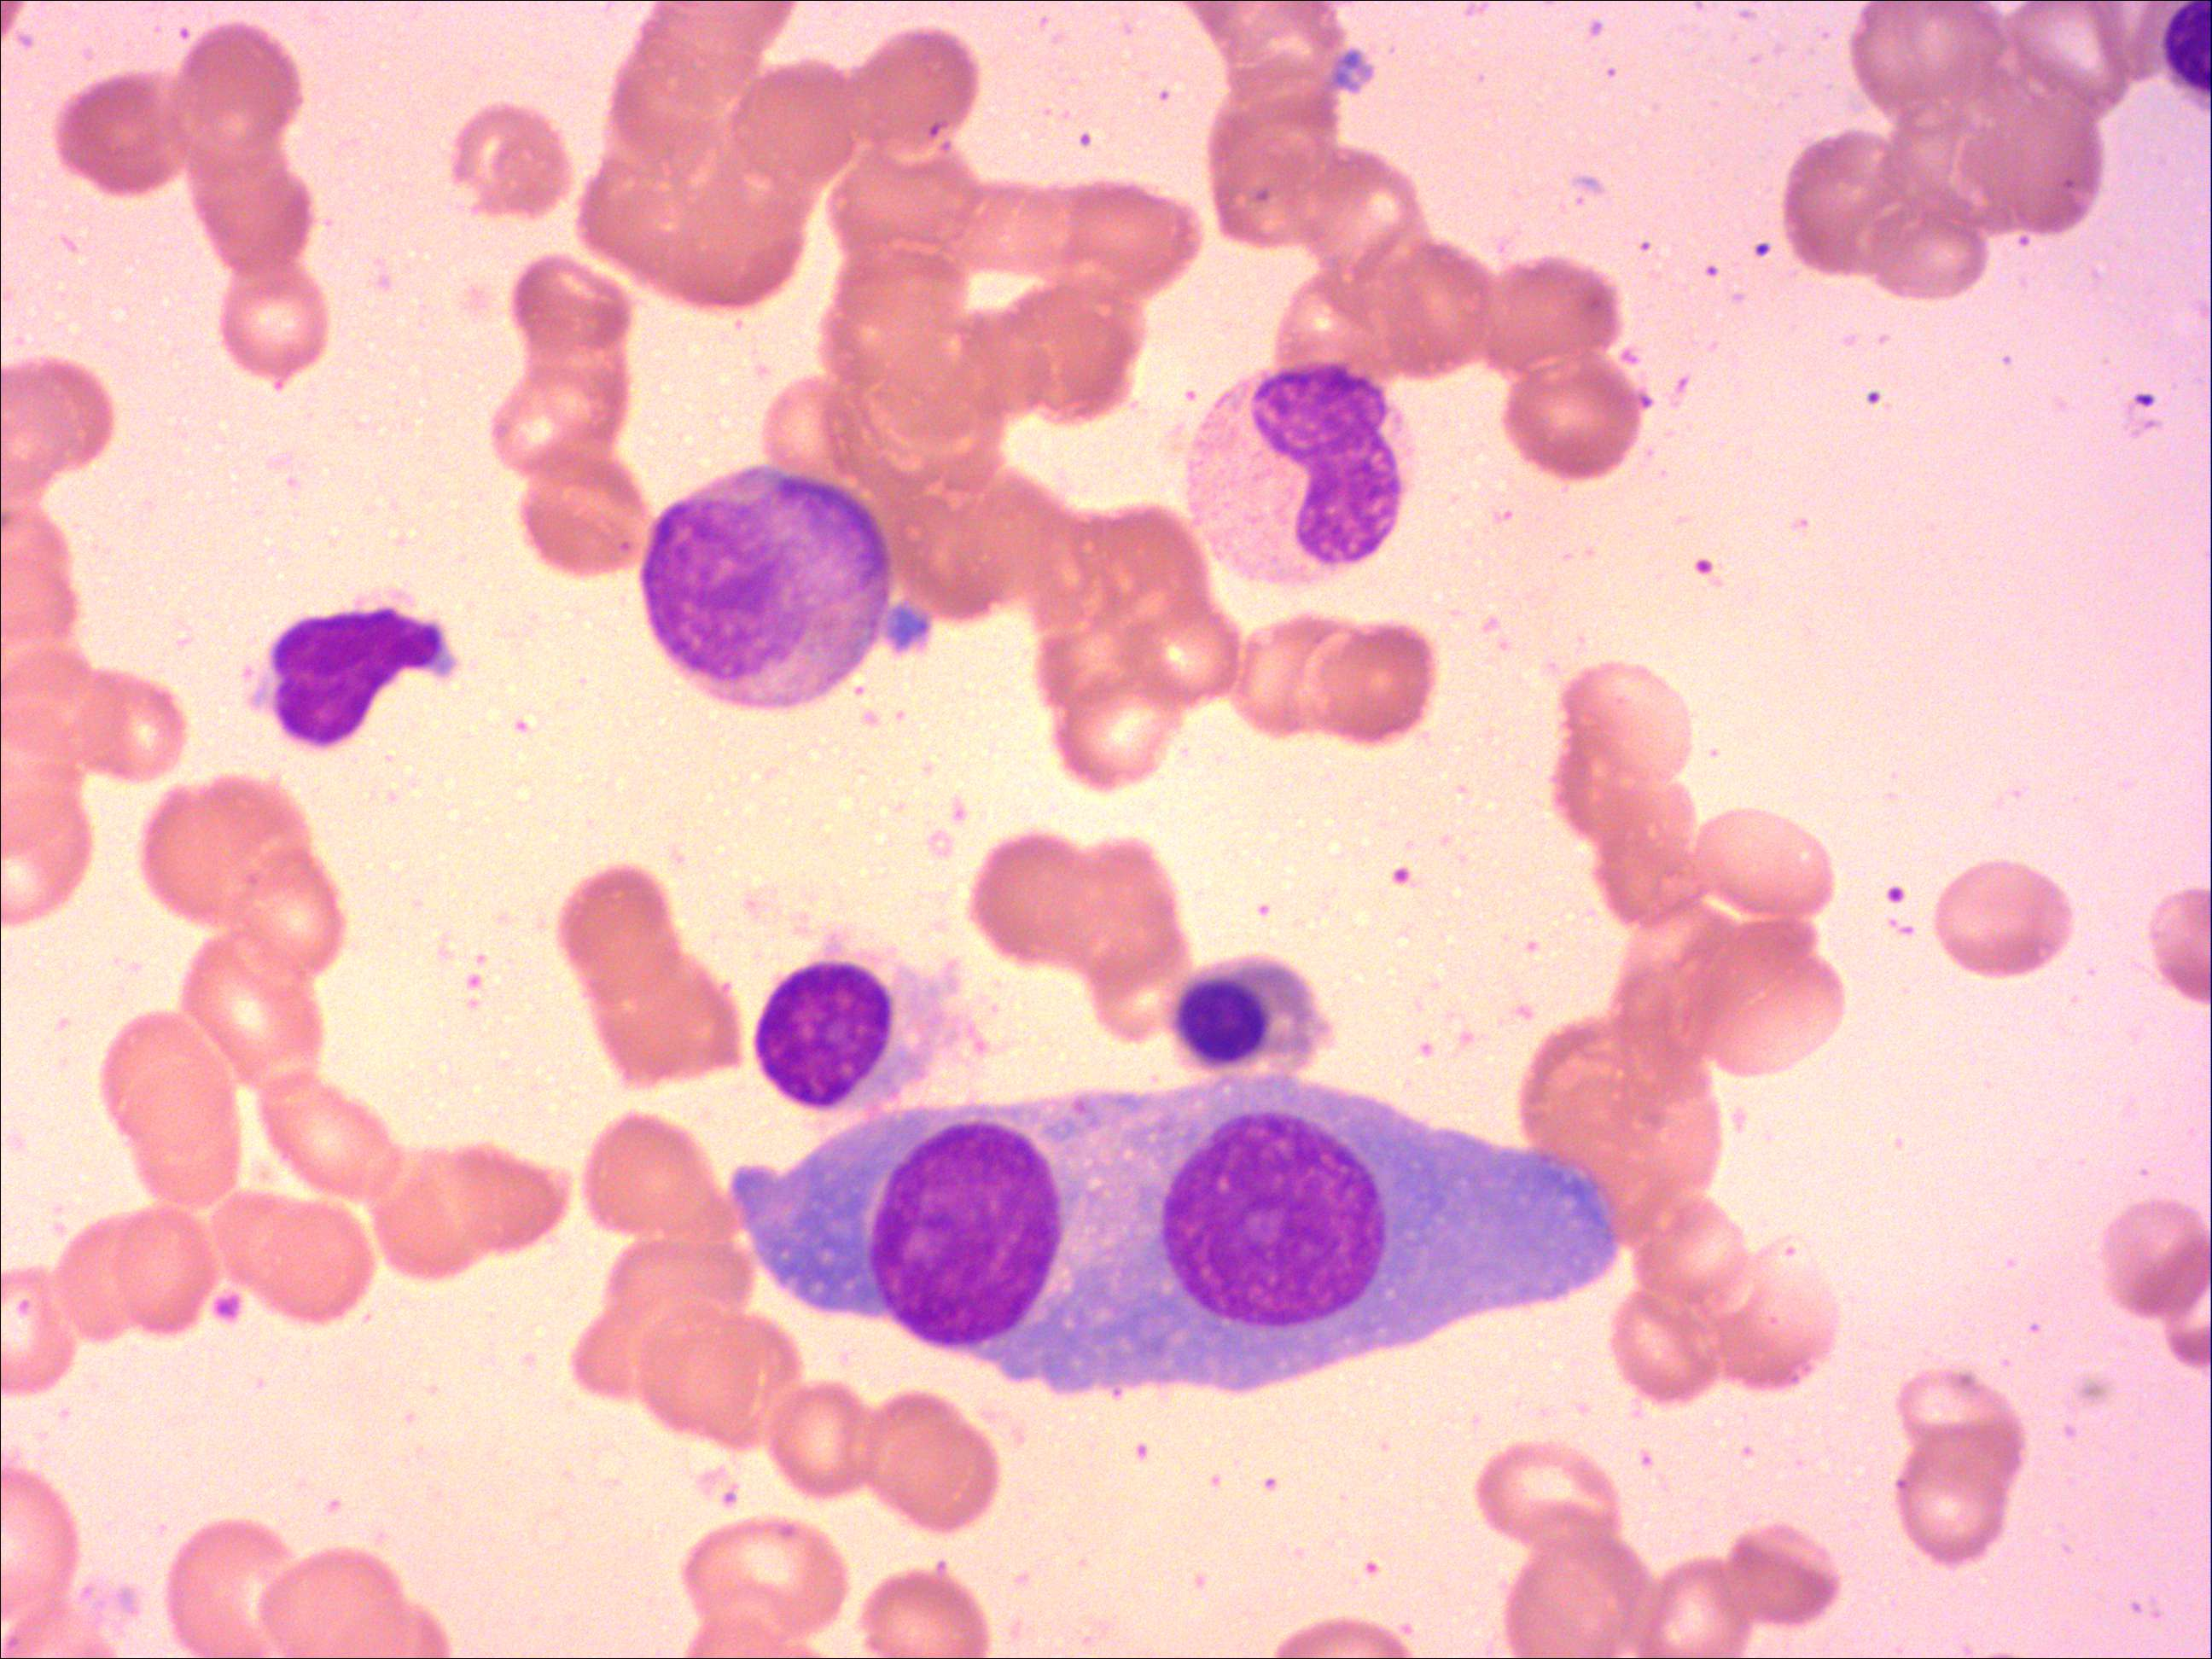24: (1162, 946, 1343, 1077)
32: (246, 592, 463, 755)
4: (634, 458, 899, 714)
5: (1177, 357, 1428, 598)
51: (728, 1072, 1627, 1403)
x: (747, 943, 963, 1121)
